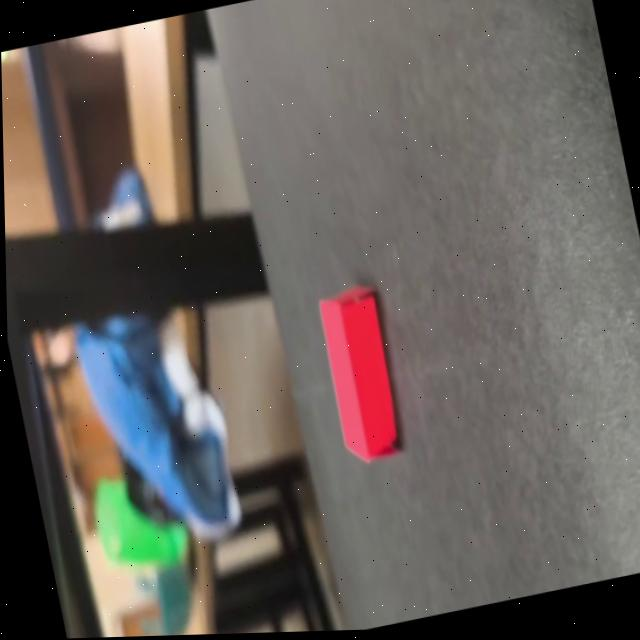red block: (310, 279, 407, 468)
